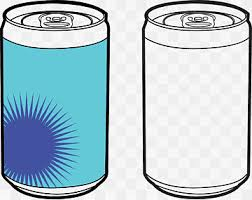can: (1, 1, 114, 200), (142, 1, 248, 200)
